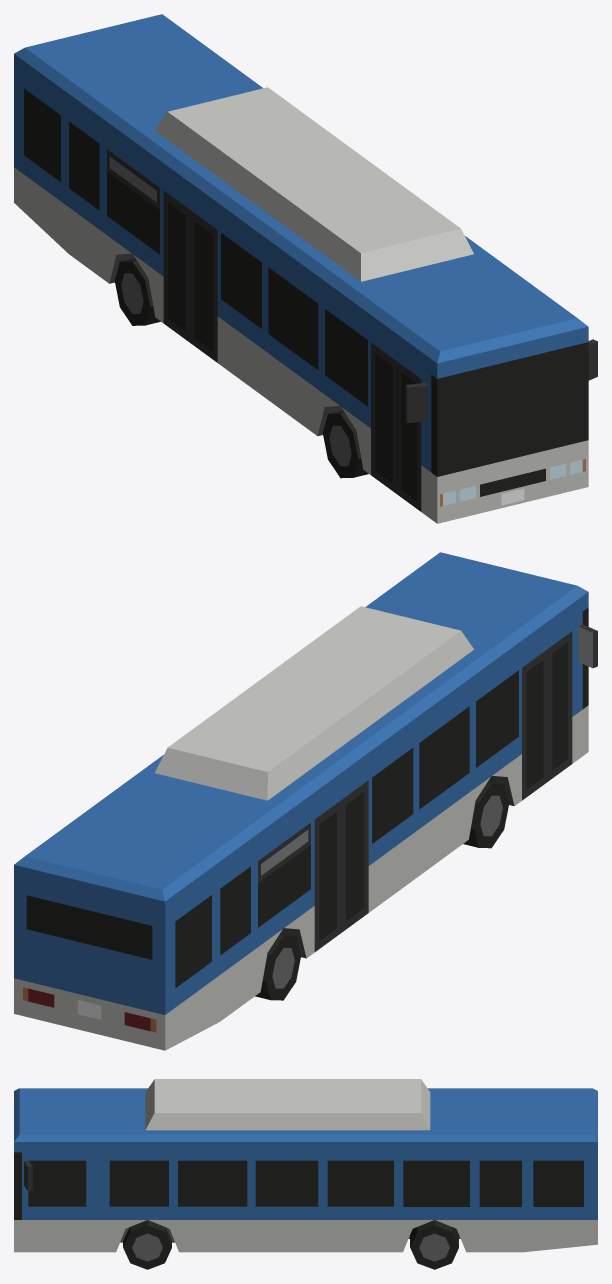
The model's file is Veh_Bus_01_Blue.glb.
3 views of the same model, one above another, from view 1: azimuth 30°, elevation 25°; view 2: azimuth 150°, elevation 25°; view 3: azimuth 270°, elevation 25° (orthographic). The views are drawn at different scales.
Visible parts, largest first — view 1: Bus_01_Blue, Wheel_RR, Wheel_FR; view 2: Bus_01_Blue, Wheel_RR, Wheel_FR; view 3: Bus_01_Blue, Wheel_RL, Wheel_FL.
Part boxes in pixels (x1,y1,x2,y2): Bus_01_Blue: (14, 14, 597, 523); Wheel_RR: (114, 258, 160, 325); Wheel_FR: (323, 410, 368, 478); Bus_01_Blue: (14, 552, 597, 1050); Wheel_RR: (255, 933, 301, 1000); Wheel_FR: (463, 780, 509, 848); Bus_01_Blue: (14, 1079, 597, 1252); Wheel_RL: (410, 1220, 458, 1269); Wheel_FL: (123, 1220, 171, 1269).
Bounding box in the file's own units: 1.7 × 1.83 × 6.53.
1 material, 1 textured.
